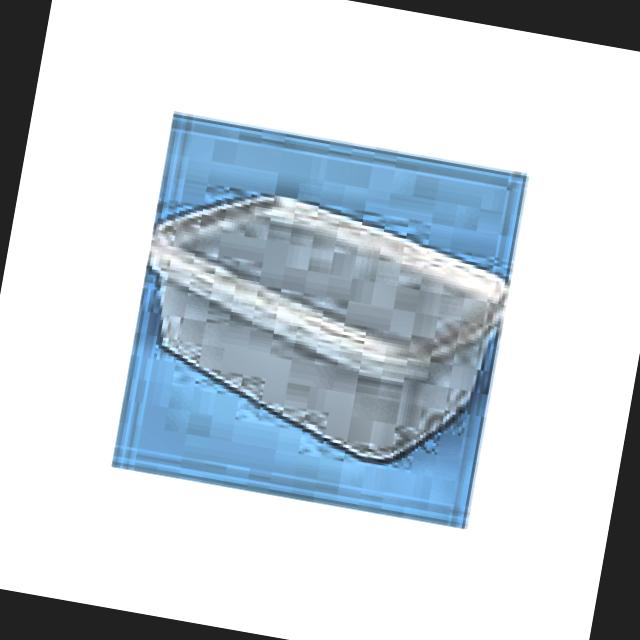plastic container: (149, 195, 505, 460)
